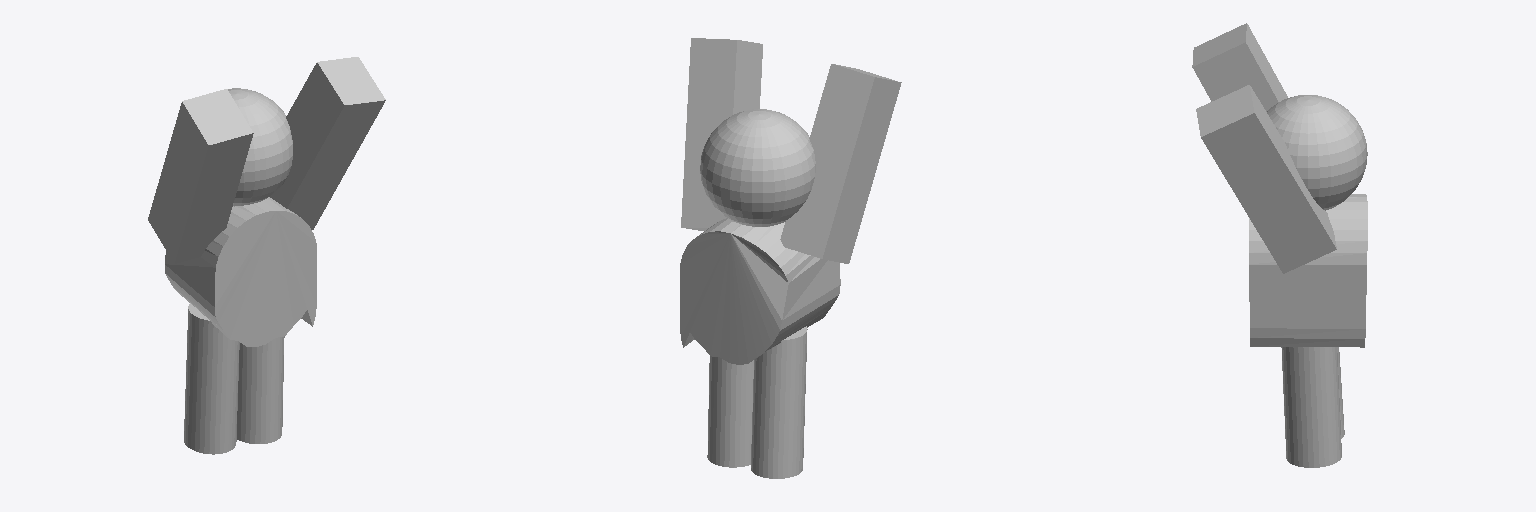
The model's file is Figurine171.obj.
3 views of the same model, side by side, from view 1: azimuth 30°, elevation 25°; view 2: azimuth 150°, elevation 25°; view 3: azimuth 270°, elevation 25° (orthographic).
Parts seen in each view (by area): view 1: Cylinder; view 2: Cylinder; view 3: Cylinder.
Boxes of the visible parts, x1,y1,x2,y2 form: Cylinder: [148, 57, 385, 454]; Cylinder: [680, 38, 901, 478]; Cylinder: [1192, 23, 1367, 467].
Bounding box in the file's own units: 3.52 × 7.2 × 2.95.